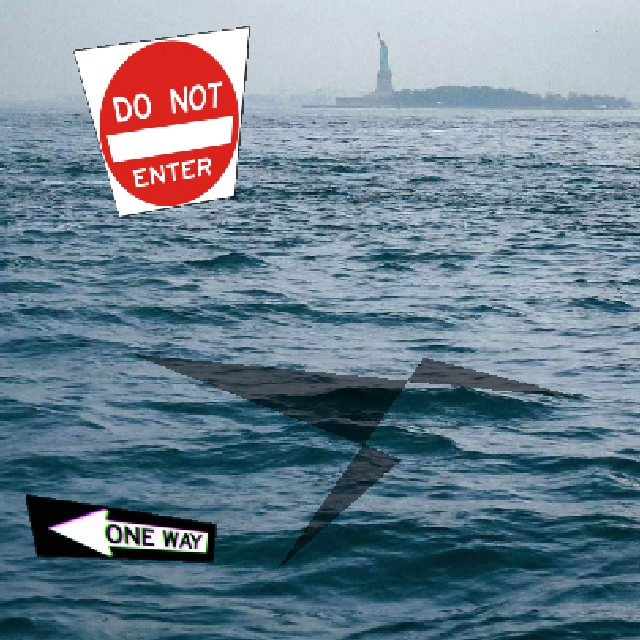DO_NOT_ENTER: (71, 24, 248, 216)
ONE_WAY_ left: (23, 492, 215, 561)
